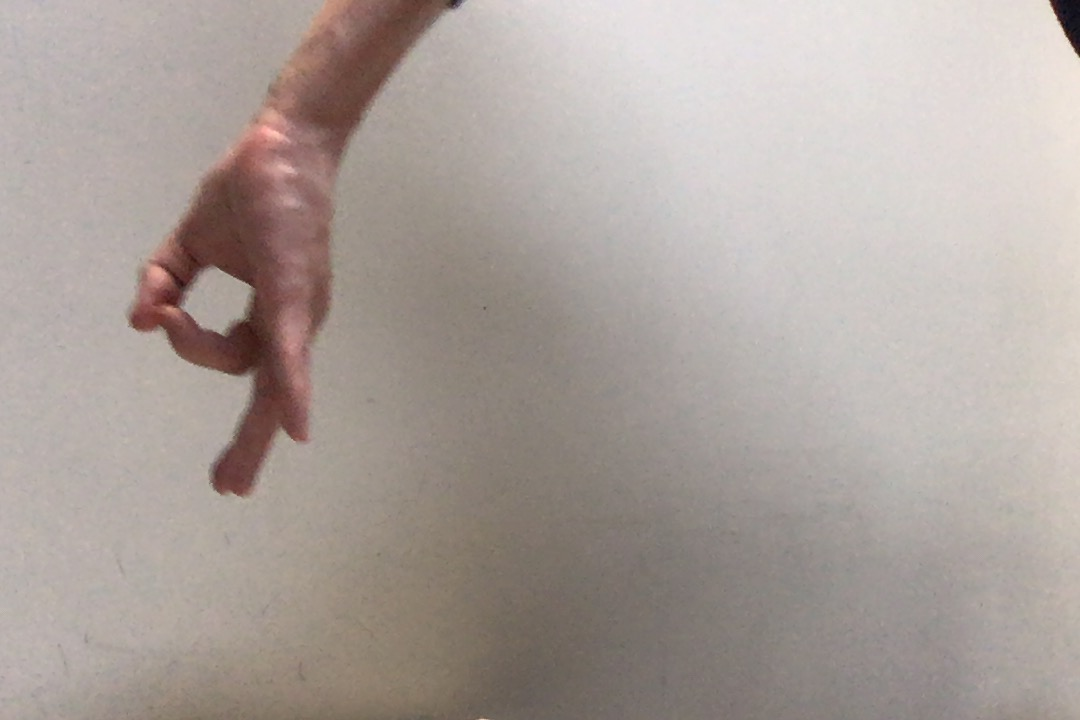oksign: (119, 128, 340, 505)
